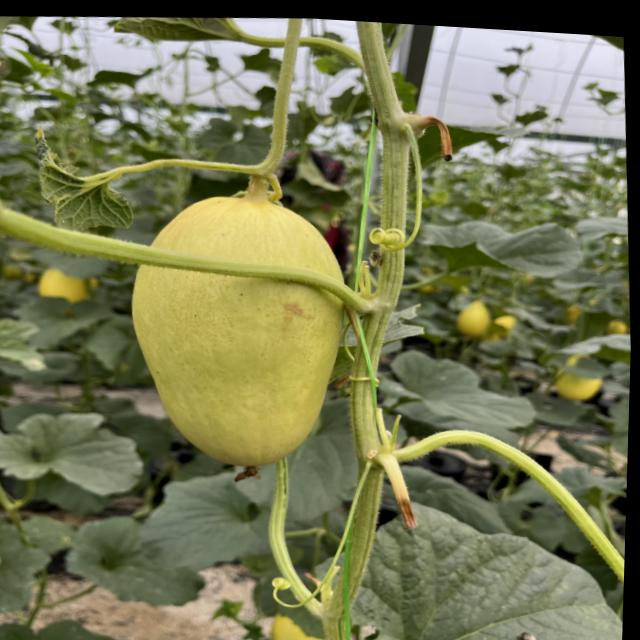CMV: (11, 124, 147, 236)
